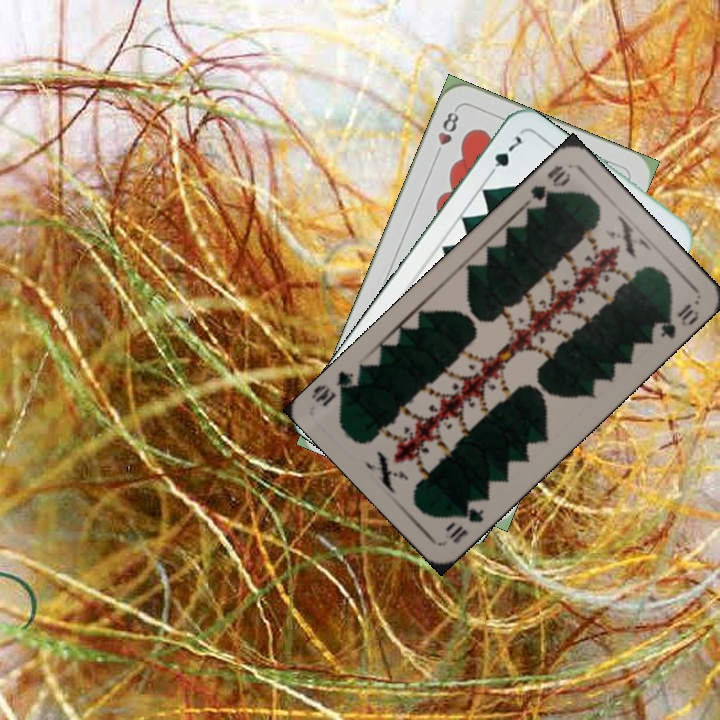G10: (522, 161, 573, 212), (444, 494, 487, 546)
G7: (483, 129, 525, 181)
H8: (431, 104, 462, 161)
